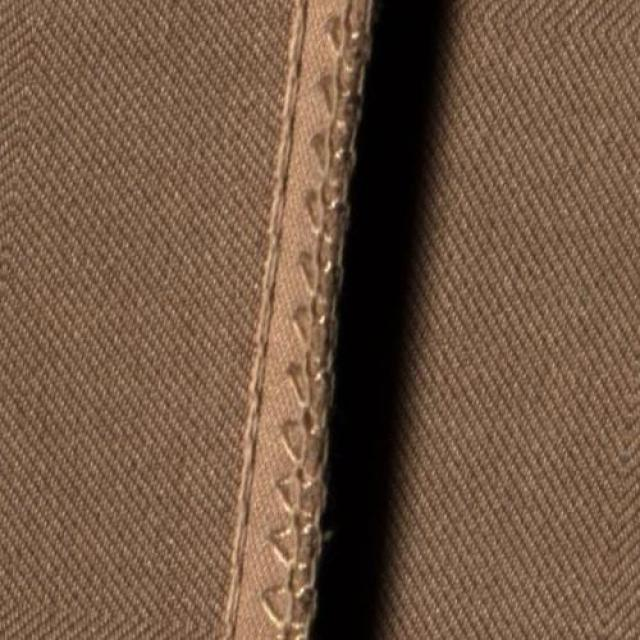gray stitch: (223, 3, 371, 636)
